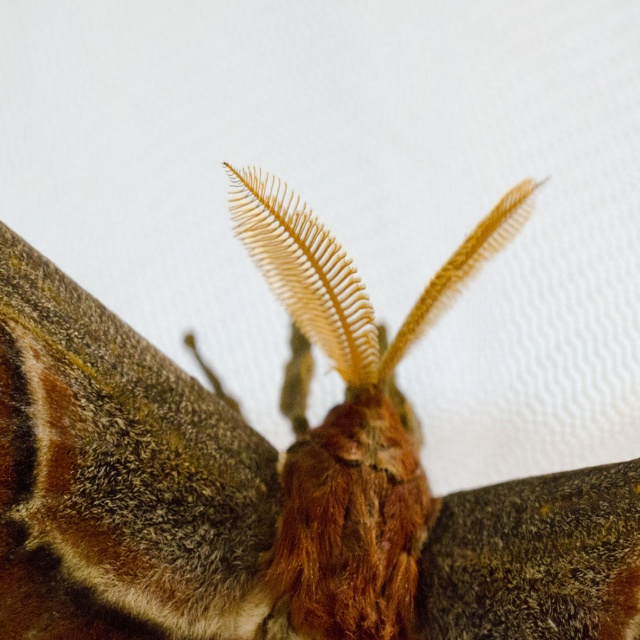Moths and butterflies: (0, 159, 640, 639)
